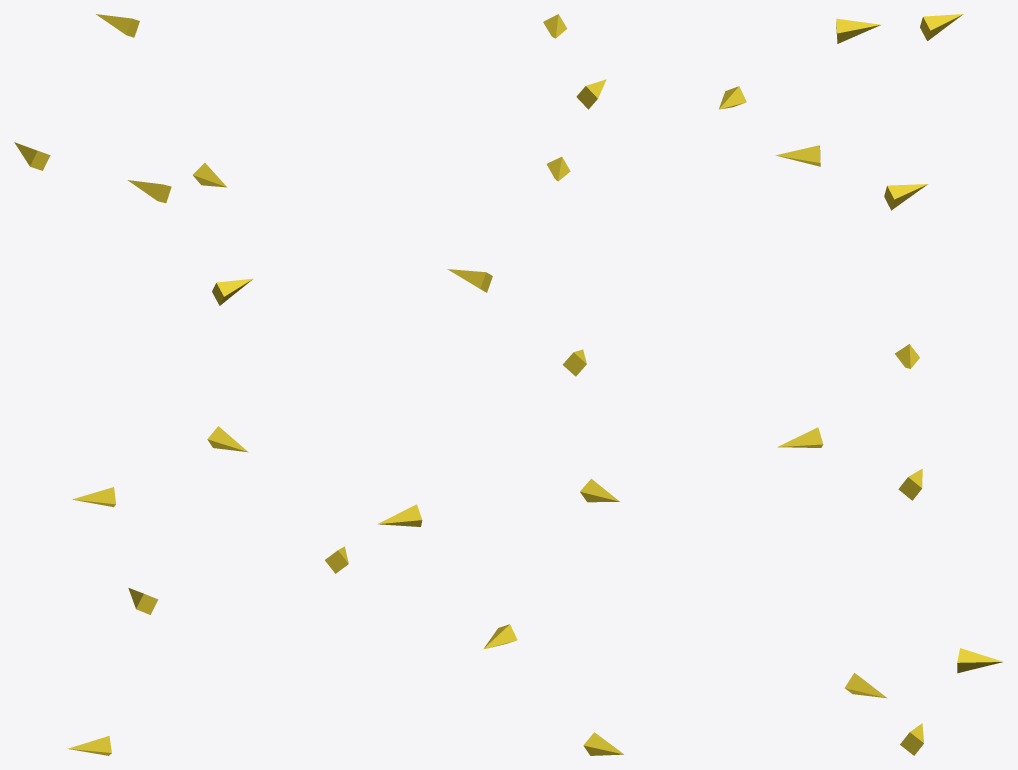
Rendered from KaktusUji4.glb.
The picture shows the model from 3 angles, left to right: view 1: azimuth 30°, elevation 25°; view 2: azimuth 150°, elevation 25°; view 3: azimuth 270°, elevation 25°; orthographic projection. The views are drawn at different scales.
Visible parts, largest first — view 1: no part large enough to name; view 2: no part large enough to name; view 3: Cone.008, Cone.004, Cone.010, Cone.011, Cone.005, Cone.006, Cone.007, Cone.003, Cone.009.
Boxes of the visible parts, x1,y1,x2,y2 form: Cone.008: (957,648,1003,673); Cone.004: (836,18,881,43); Cone.010: (884,184,927,210); Cone.011: (920,14,963,40); Cone.005: (775,145,820,166); Cone.006: (778,427,823,447); Cone.007: (845,673,887,698); Cone.003: (898,468,922,500); Cone.009: (900,723,923,755).
Size of the model in its own units: 1.18 by 2.41 by 0.6645.
